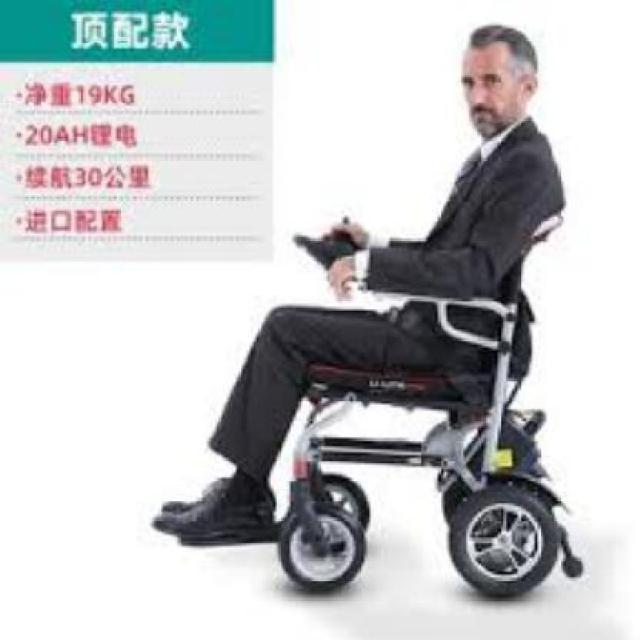wheelchairs: (275, 212, 585, 597)
